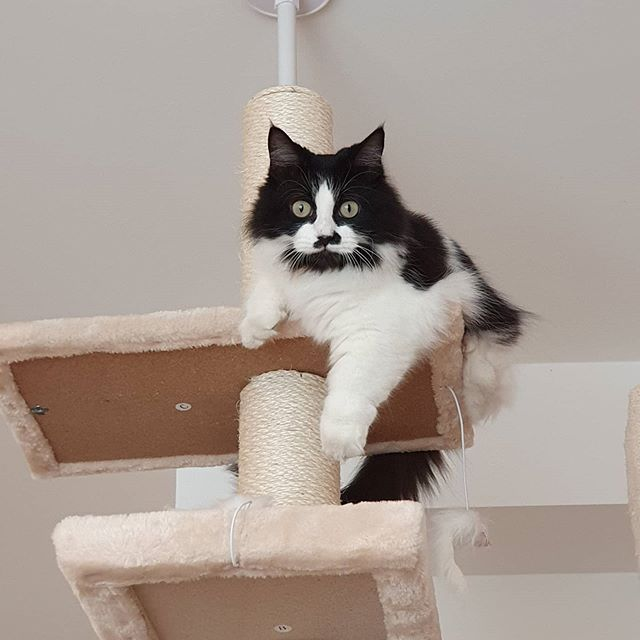cat: (247, 123, 397, 281)
